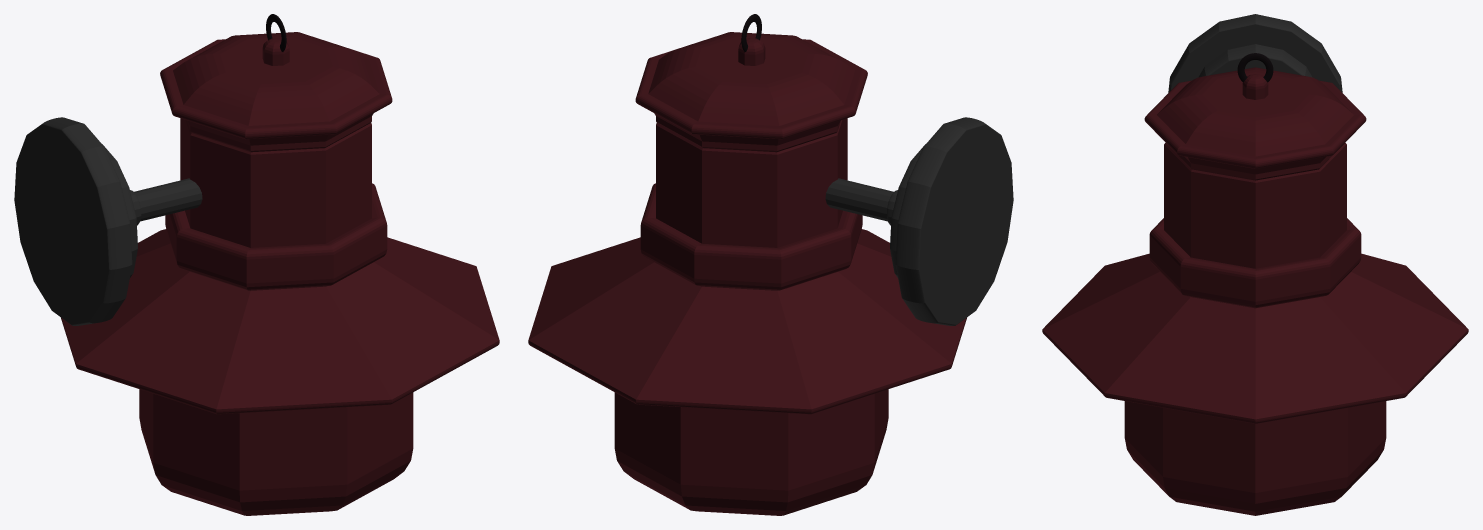
File: lampara.fbx
The picture shows the model from 3 angles, left to right: view 1: azimuth 30°, elevation 25°; view 2: azimuth 150°, elevation 25°; view 3: azimuth 270°, elevation 25°; orthographic projection. The views are drawn at different scales.
Parts seen in each view (by area): view 1: Cylinder, Cylinder.001; view 2: Cylinder, Cylinder.001; view 3: Cylinder, Cylinder.001, Torus.
Part boxes in pixels (left/top/right/bottom): Cylinder: left=61, top=32, right=499, bottom=515; Cylinder.001: left=14, top=117, right=202, bottom=325; Cylinder: left=528, top=32, right=966, bottom=515; Cylinder.001: left=825, top=117, right=1013, bottom=325; Cylinder: left=1042, top=67, right=1468, bottom=515; Cylinder.001: left=1168, top=14, right=1342, bottom=92; Torus: left=1237, top=53, right=1273, bottom=82.
Size of the model in its own units: 483 by 510 by 466.
